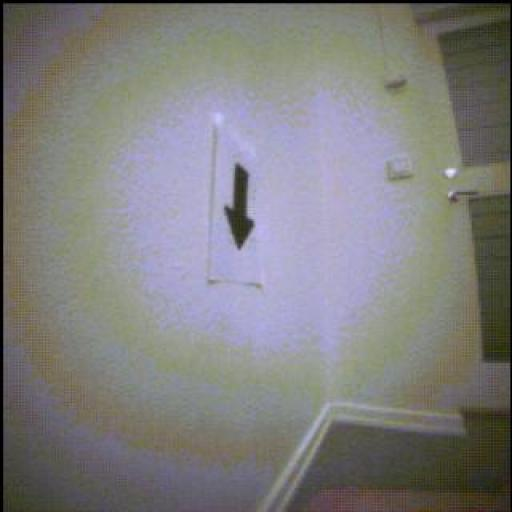Arrow: (225, 164, 255, 251)
